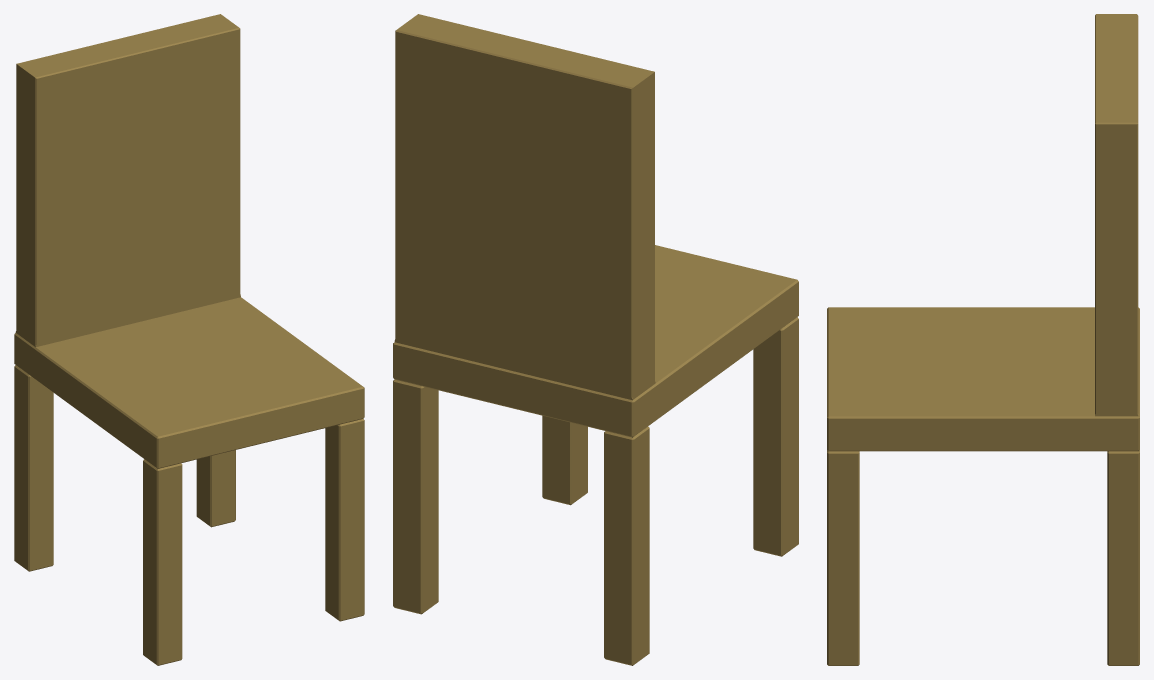
The model's file is KitchenChairGeo.fbx.
The picture shows the model from 3 angles, left to right: view 1: azimuth 30°, elevation 25°; view 2: azimuth 150°, elevation 25°; view 3: azimuth 270°, elevation 25°; orthographic projection. The views are drawn at different scales.
Visible parts, largest first — view 1: KitchenChairGeo; view 2: KitchenChairGeo; view 3: KitchenChairGeo.
Boxes of the visible parts, <box> form: KitchenChairGeo: <box>14,14,364,665</box>; KitchenChairGeo: <box>393,14,798,665</box>; KitchenChairGeo: <box>827,14,1139,665</box>.
Bounding box in the file's own units: 96.64 × 221 × 116.
